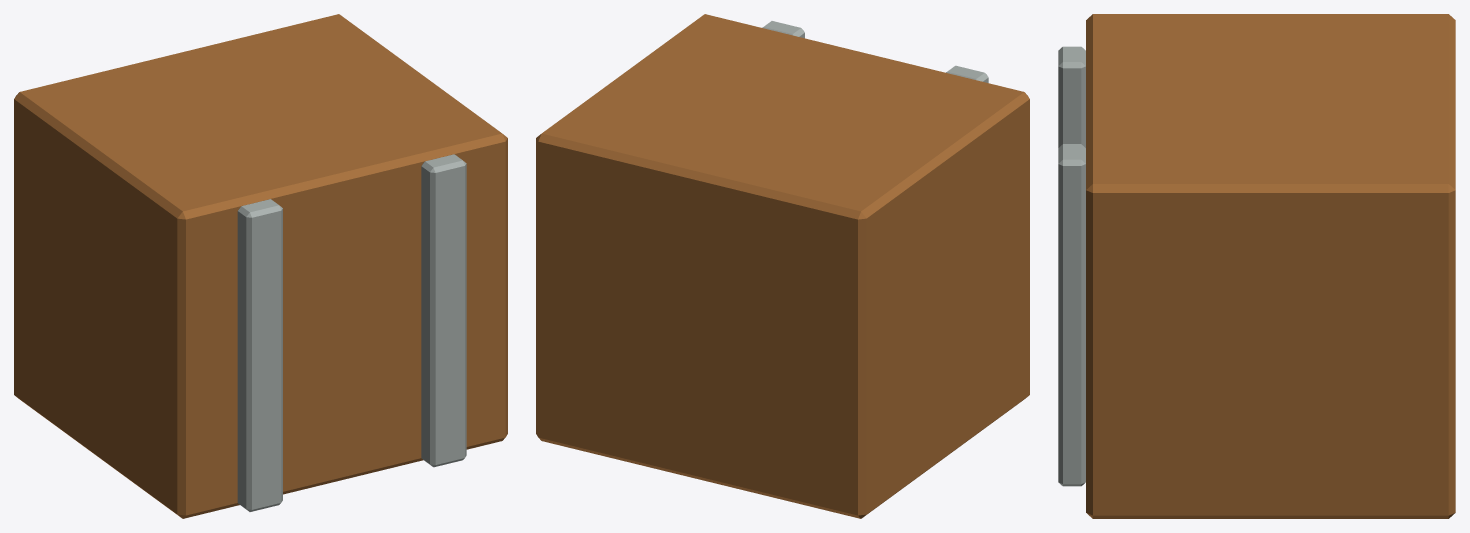
The model's file is crate.rustic.glb.
The picture shows the model from 3 angles, left to right: view 1: azimuth 30°, elevation 25°; view 2: azimuth 150°, elevation 25°; view 3: azimuth 270°, elevation 25°; orthographic projection. The views are drawn at different scales.
Parts seen in each view (by area): view 1: crate.body, crate.band.high, crate.band.low; view 2: crate.body; view 3: crate.body, crate.band.high, crate.band.low.
Boxes of the visible parts, x1,y1,x2,y2 form: crate.body: [14, 14, 507, 518]; crate.band.high: [421, 154, 466, 467]; crate.band.low: [237, 199, 282, 511]; crate.body: [536, 14, 1029, 518]; crate.body: [1086, 14, 1455, 518]; crate.band.high: [1058, 144, 1085, 486]; crate.band.low: [1058, 46, 1085, 147].
Size of the model in its own units: 0.9 by 0.8 by 0.86.
